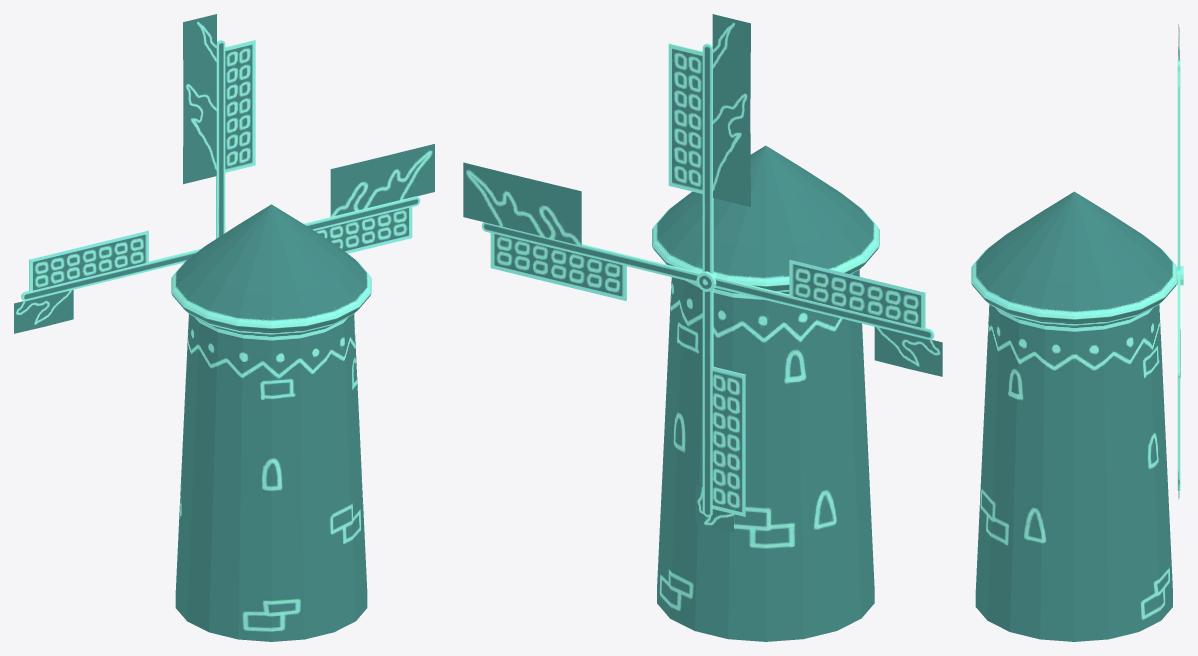
The model's file is GhostWindmill.glb.
3 renders of one model, left to right at view 1: azimuth 30°, elevation 25°; view 2: azimuth 150°, elevation 25°; view 3: azimuth 270°, elevation 25°, orthographic. The views are drawn at different scales.
Visible parts, largest first — view 1: GhostWindmill (×2), GhostWindmill_Alpha; view 2: GhostWindmill (×2), GhostWindmill_Alpha; view 3: GhostWindmill (×2).
Part boxes in pixels (x1=…): GhostWindmill (×2): x1=21, y1=40, x2=420, y2=641; GhostWindmill_Alpha: x1=14, y1=14, x2=434, y2=333; GhostWindmill (×2): x1=481, y1=43, x2=934, y2=641; GhostWindmill_Alpha: x1=463, y1=14, x2=942, y2=532; GhostWindmill (×2): x1=971, y1=60, x2=1183, y2=641.
Size of the model in its own units: 0.216 by 0.2695 by 0.0916.
1 material, 1 textured.
